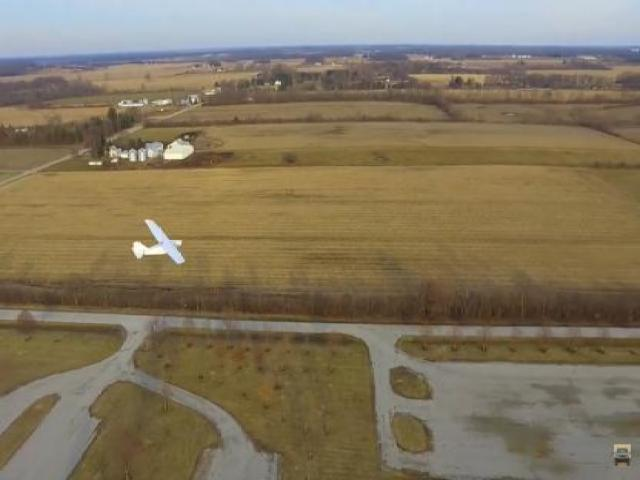uav: (125, 210, 197, 278)
